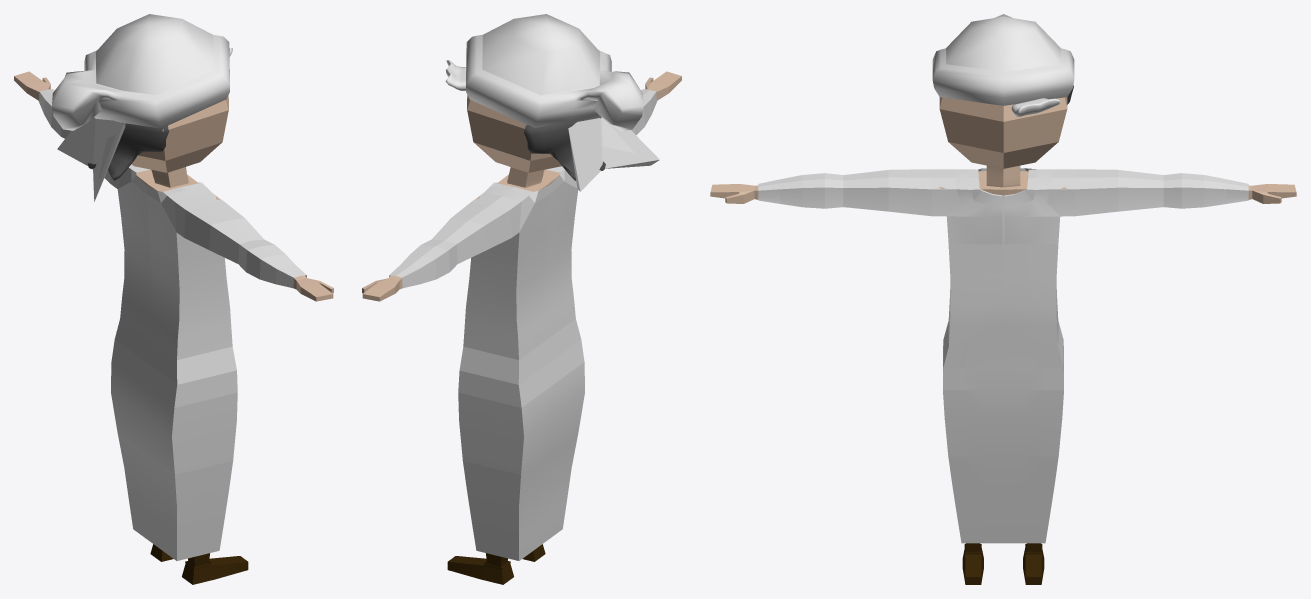
File: child_1.fbx
3 renders of one model, left to right at view 1: azimuth 30°, elevation 25°; view 2: azimuth 150°, elevation 25°; view 3: azimuth 270°, elevation 25°, orthographic. The views are drawn at different scales.
Visible parts, largest first — view 1: polySurface15, pSphere2, pCube15, pCube6; view 2: polySurface15, pSphere2, pCube15, pCube6; view 3: polySurface15, pSphere2, pCube6.
Part boxes in pixels (x1=…): polySurface15: x1=39, y1=14, x2=306, y2=560; pSphere2: x1=14, y1=71, x2=333, y2=301; pCube15: x1=87, y1=122, x2=168, y2=180; pCube6: x1=150, y1=544, x2=248, y2=584; polySurface15: x1=389, y1=14, x2=659, y2=560; pSphere2: x1=362, y1=71, x2=681, y2=301; pCube15: x1=523, y1=122, x2=605, y2=180; pCube6: x1=447, y1=544, x2=545, y2=584; polySurface15: x1=758, y1=14, x2=1248, y2=543; pSphere2: x1=710, y1=97, x2=1296, y2=203; pCube6: x1=962, y1=543, x2=1044, y2=584.
Bounding box in the file's own units: 3.95 × 11 × 10.99.
